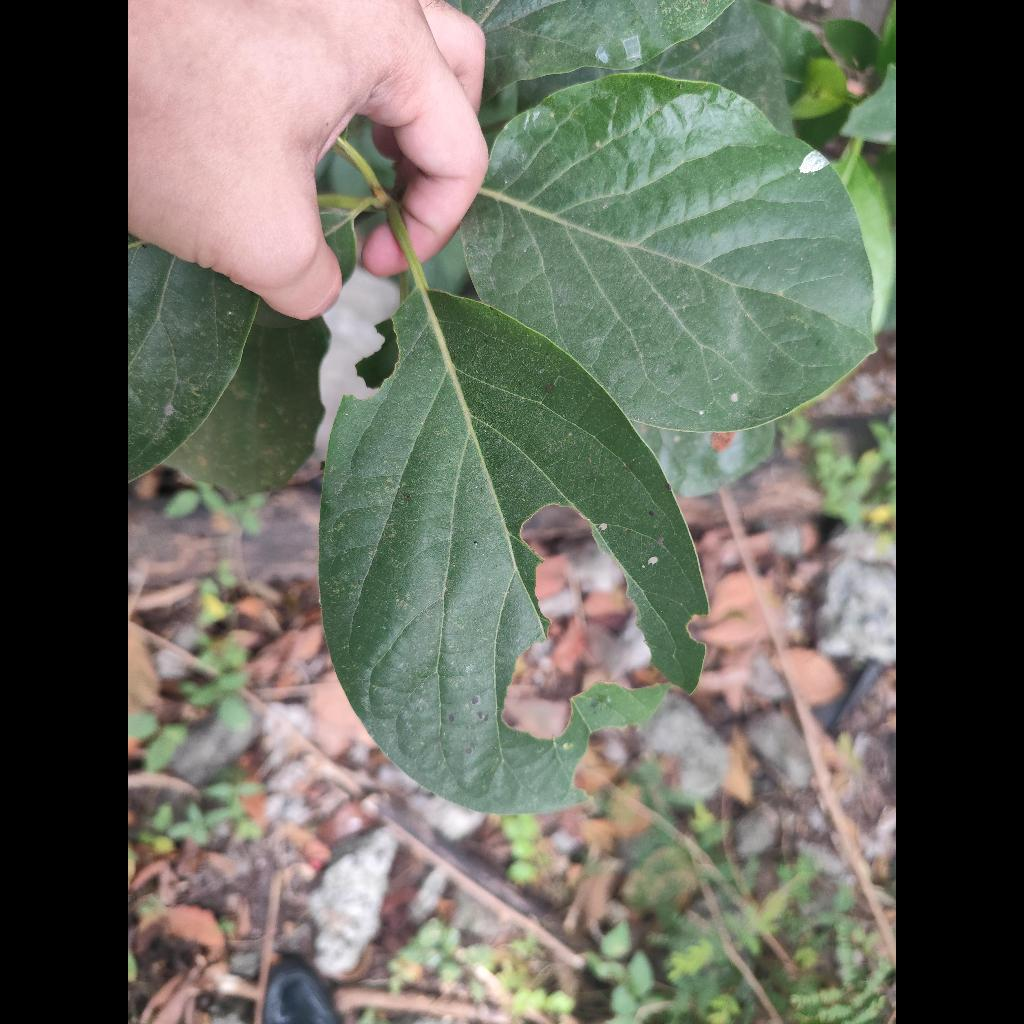plaga: (319, 291, 707, 814)
